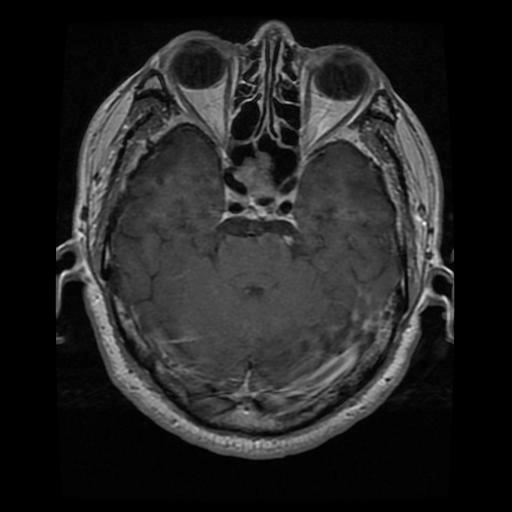Tumour-Pituitary: (214, 171, 303, 233)
